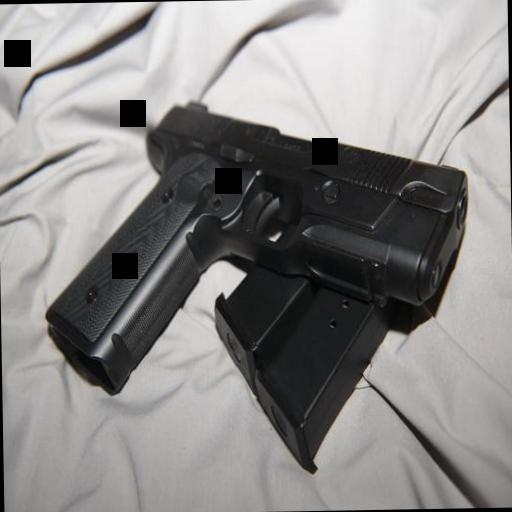Handgun: (35, 80, 473, 403)
